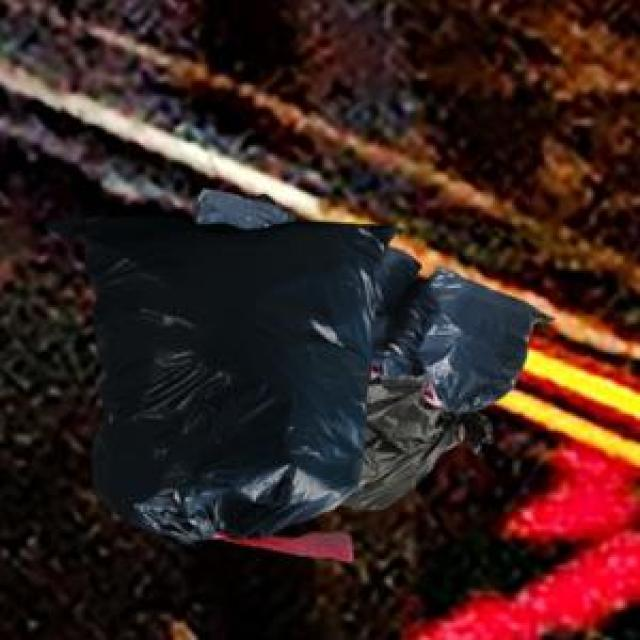waste: (88, 191, 535, 542)
